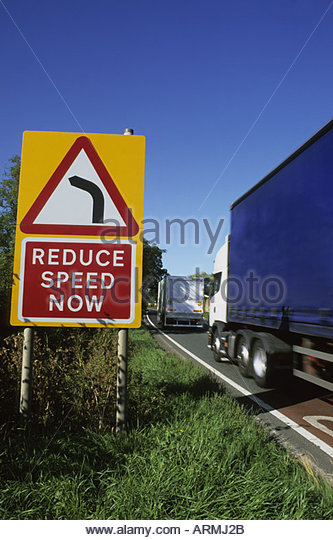Bend_to_left: (18, 135, 139, 237)
